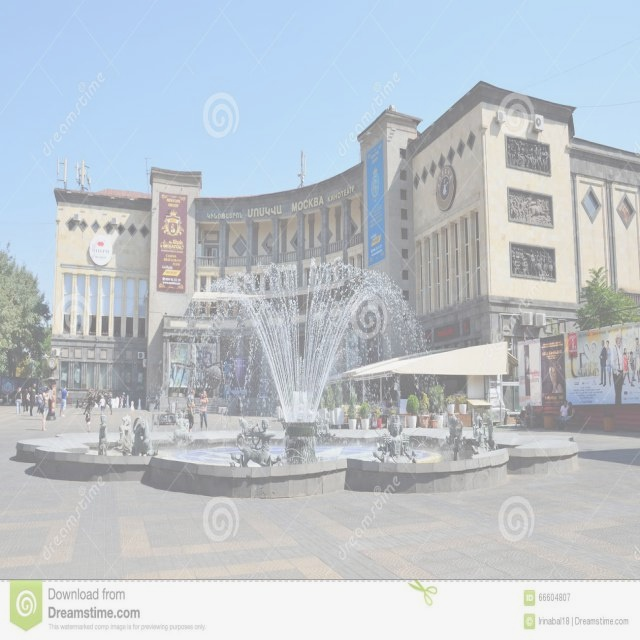pessoa: (592, 332, 640, 404), (377, 405, 418, 468), (506, 188, 553, 230), (505, 136, 551, 174), (509, 244, 556, 280), (246, 417, 276, 459), (471, 416, 492, 458), (545, 362, 565, 398), (40, 386, 54, 432), (556, 398, 570, 432), (98, 414, 109, 456), (523, 352, 533, 398), (200, 390, 210, 432), (186, 394, 196, 434), (82, 386, 94, 416), (563, 401, 574, 432), (28, 382, 37, 417), (60, 384, 68, 418), (35, 389, 44, 417), (84, 406, 92, 433), (15, 386, 22, 416), (22, 388, 30, 414), (524, 403, 532, 429), (189, 389, 196, 417), (98, 394, 106, 418), (119, 390, 128, 408), (152, 393, 160, 410), (108, 395, 114, 415)
